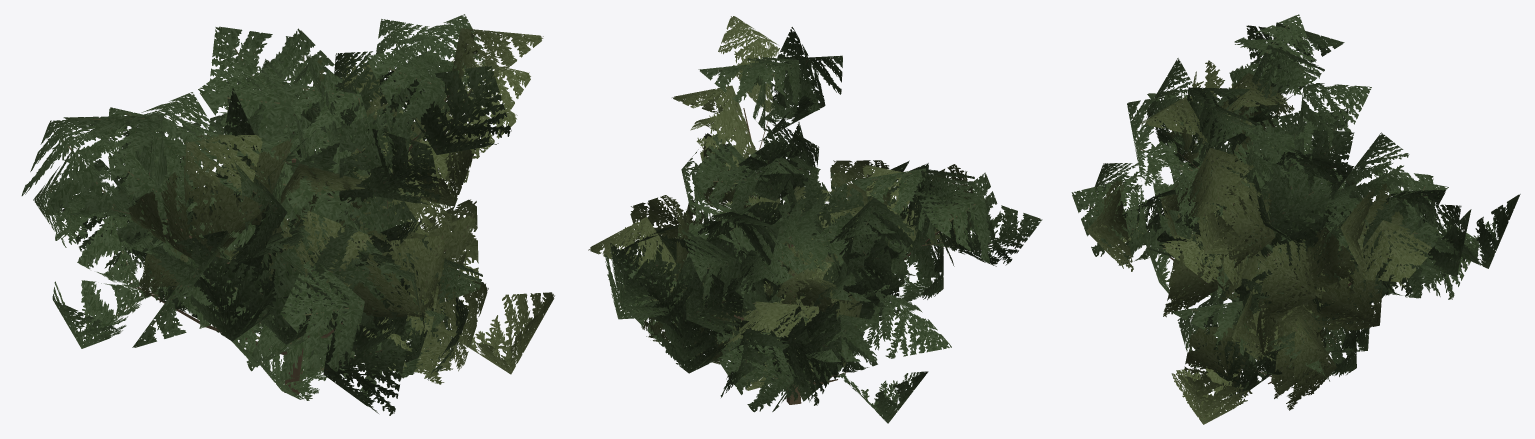
The model's file is SM_CN_Juniper_B_LOD2.glb.
3 renders of one model, left to right at view 1: azimuth 30°, elevation 25°; view 2: azimuth 150°, elevation 25°; view 3: azimuth 270°, elevation 25°, orthographic. The views are drawn at different scales.
Visible parts, largest first — view 1: SM_CN_Juniper_B_LOD2; view 2: SM_CN_Juniper_B_LOD2; view 3: SM_CN_Juniper_B_LOD2.
Part boxes in pixels (<box>): SM_CN_Juniper_B_LOD2: <box>21,14,554,415</box>; SM_CN_Juniper_B_LOD2: <box>588,16,1042,423</box>; SM_CN_Juniper_B_LOD2: <box>1071,14,1520,424</box>.
Bounding box in the file's own units: 3.5 × 2.65 × 3.37.
2 materials, 2 textured.
